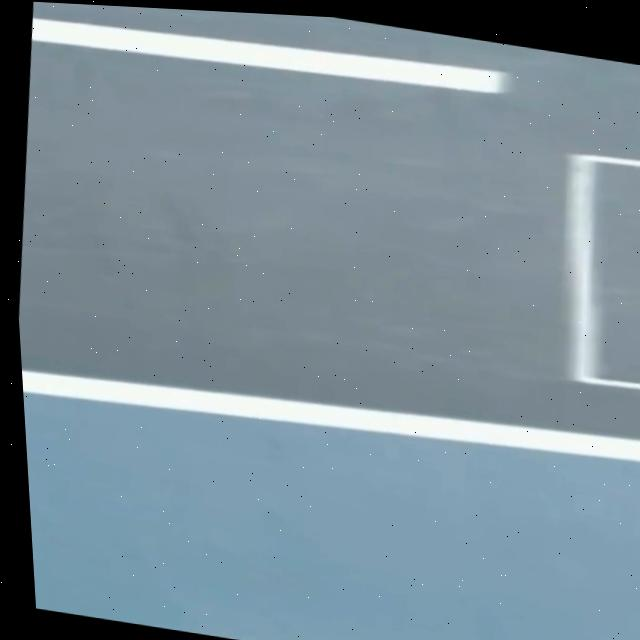center: (30, 18, 507, 93)
left: (22, 370, 640, 462)
